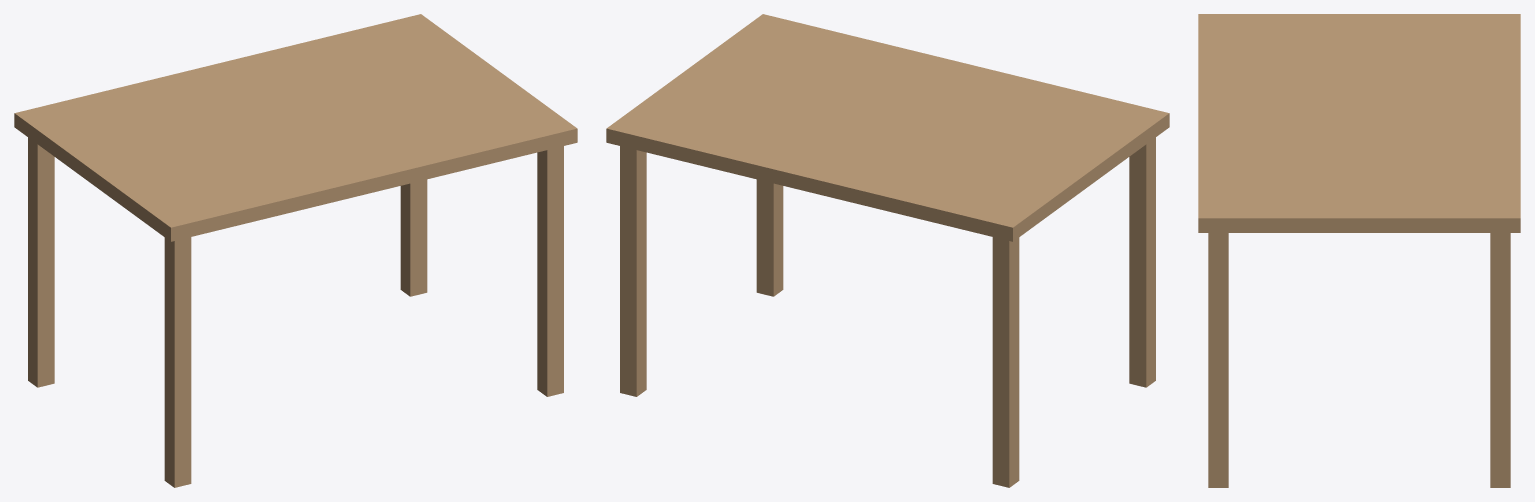
Rendered from test-table.glb.
The picture shows the model from 3 angles, left to right: view 1: azimuth 30°, elevation 25°; view 2: azimuth 150°, elevation 25°; view 3: azimuth 270°, elevation 25°; orthographic projection. The views are drawn at different scales.
Visible parts, largest first — view 1: Top, Leg (×4); view 2: Top, Leg (×4); view 3: Top, Leg (×2).
Boxes of the visible parts, <box> form: Top: <box>14,14,577,241</box>; Leg (×4): <box>28,137,563,487</box>; Top: <box>606,14,1169,241</box>; Leg (×4): <box>620,137,1155,487</box>; Top: <box>1198,14,1520,232</box>; Leg (×2): <box>1208,233,1510,487</box>.
Size of the model in its own units: 1.2 by 0.75 by 0.8.
